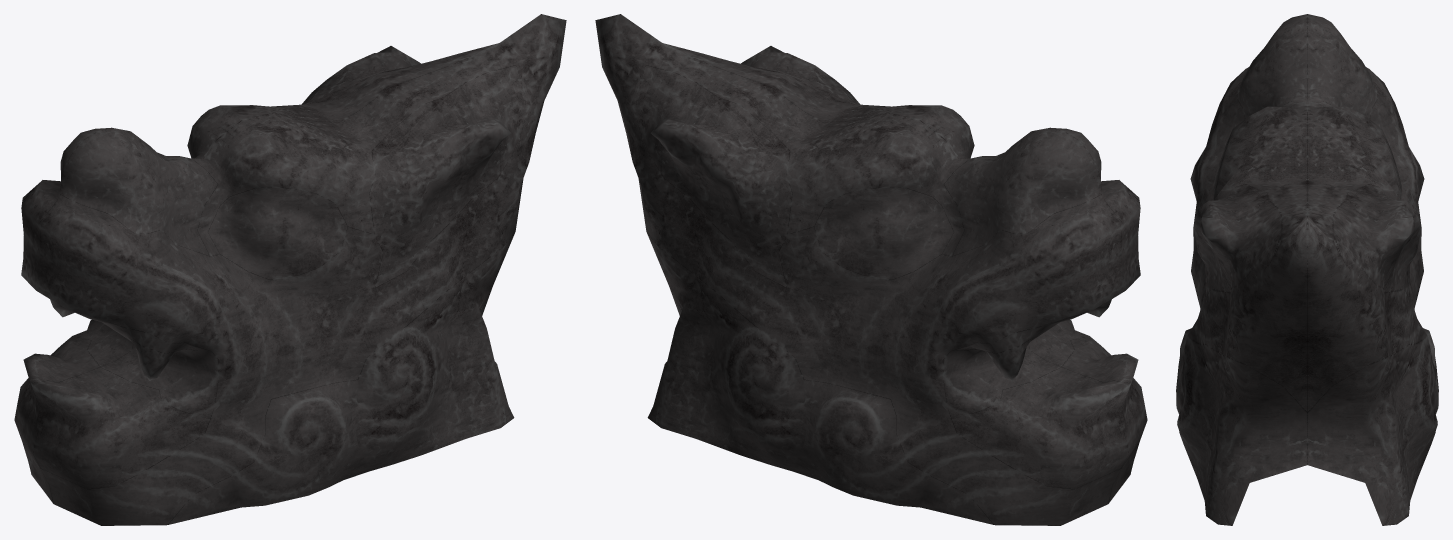
Rendered from SM_RoofOrnament05B.fbx.
The picture shows the model from 3 angles, left to right: view 1: azimuth 30°, elevation 25°; view 2: azimuth 150°, elevation 25°; view 3: azimuth 270°, elevation 25°; orthographic projection. The views are drawn at different scales.
Visible parts, largest first — view 1: SM_RoofOrnament05B; view 2: SM_RoofOrnament05B; view 3: SM_RoofOrnament05B.
Part boxes in pixels (left/top/right/bottom): SM_RoofOrnament05B: left=14, top=14, right=566, bottom=525; SM_RoofOrnament05B: left=595, top=14, right=1147, bottom=525; SM_RoofOrnament05B: left=1176, top=14, right=1438, bottom=525.
Size of the model in its own units: 52.63 by 23.03 by 34.86.
Materials: 1 (1 with a texture image).
